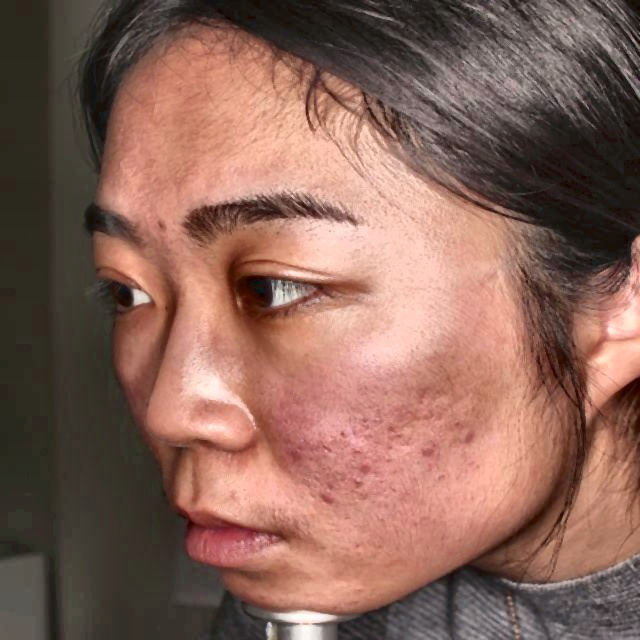comedone: (416, 439, 449, 465), (316, 486, 339, 515), (151, 211, 178, 235)
